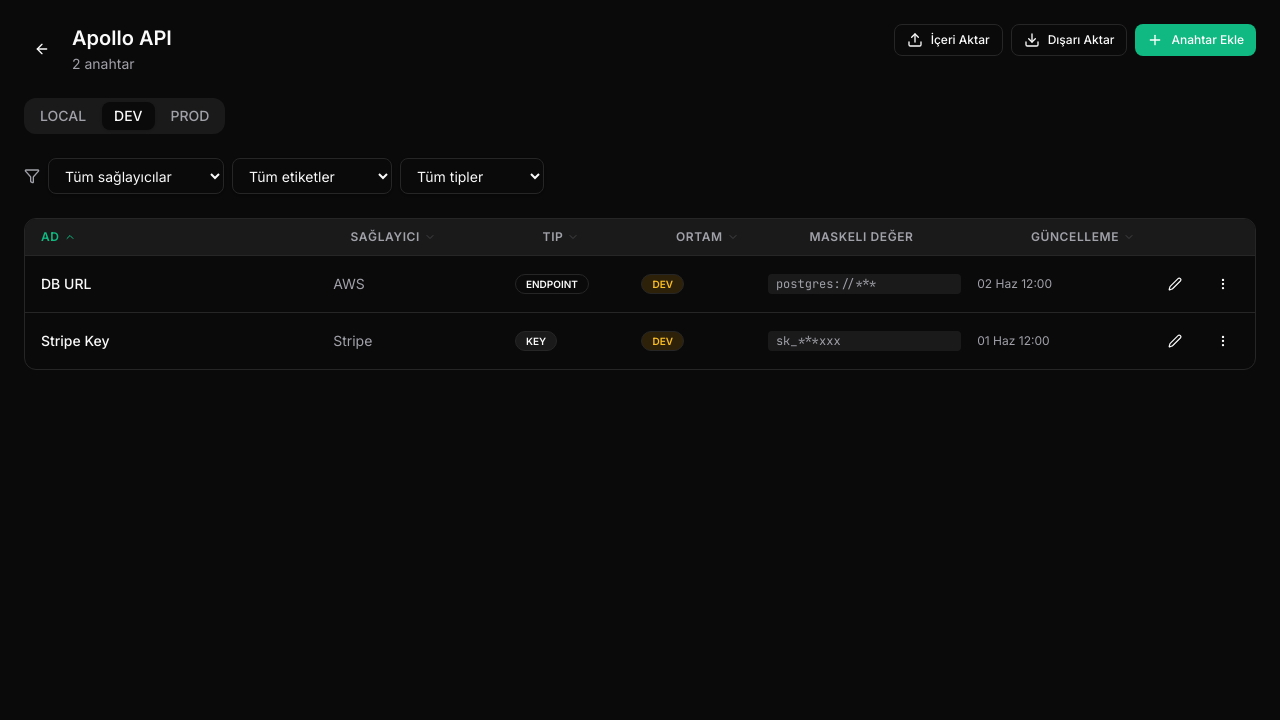
Test case: ProjectsPage › listeden kalem aksiyonu ile düzenleme modalı açılır
This screenshot has width=1280, height=720.
Click the button named "stripe key düzenle".
click(1175, 341)  # box [1159, 325, 1191, 357]
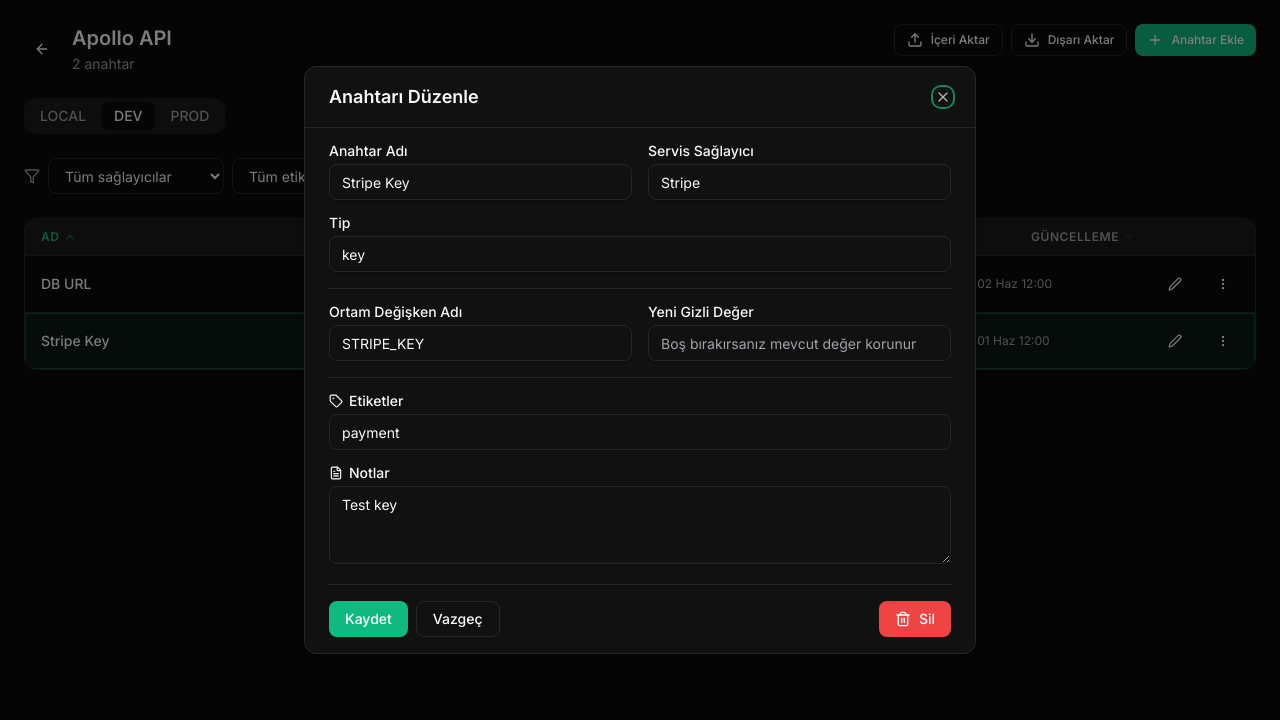
Check: the heading "Anahtarı Düzenle" is shown, box [329, 83, 479, 111]
Check: the button "Kaydet" is shown, box [329, 601, 408, 637]
